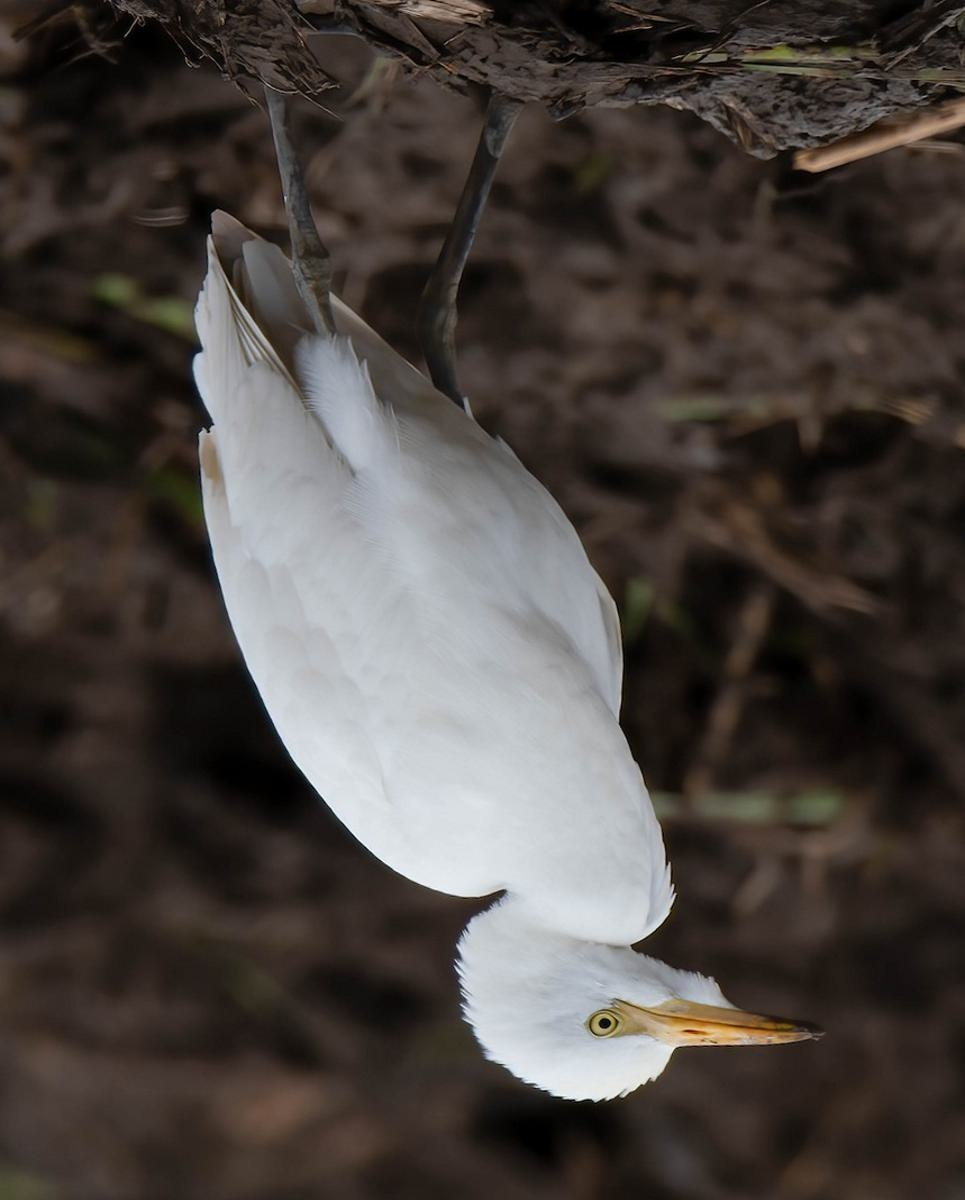egret: (172, 120, 837, 1128)
